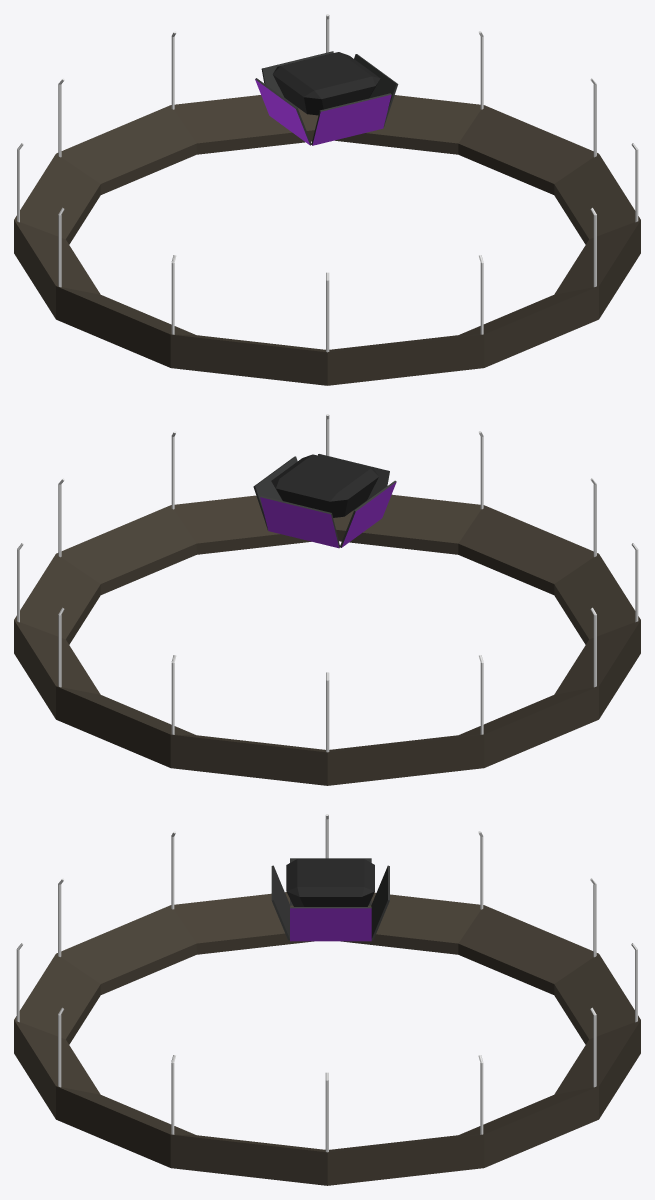
Rendered from arenaRing.glb.
3 renders of one model, top to bottom at view 1: azimuth 30°, elevation 25°; view 2: azimuth 150°, elevation 25°; view 3: azimuth 270°, elevation 25°, orthographic.
Visible parts, largest first — view 1: Cylinder.006, Cube.002, Cube, Cylinder.002, Cylinder.003, Cylinder.005, Cylinder.004, Cylinder.008; view 2: Cylinder.006, Cube.002, Cube, Cylinder.002, Cylinder.007, Cylinder.005, Cylinder.008, Cylinder.003; view 3: Cylinder.006, Cube.002, Cube, Cylinder.008, Cylinder.004, Cylinder.007, Cylinder.003, Cylinder.002.
Boxes of the visible parts, x1,y1,x2,y2 form: Cylinder.006: [14, 95, 640, 385]; Cube.002: [255, 51, 398, 145]; Cube: [272, 52, 380, 115]; Cylinder.002: [171, 31, 483, 334]; Cylinder.003: [171, 31, 483, 334]; Cylinder.005: [58, 78, 596, 287]; Cylinder.004: [58, 78, 596, 287]; Cylinder.008: [17, 143, 638, 222]; Cylinder.006: [14, 494, 640, 785]; Cube.002: [253, 454, 396, 548]; Cube: [271, 454, 378, 517]; Cylinder.002: [171, 431, 483, 734]; Cylinder.007: [58, 478, 596, 687]; Cylinder.005: [58, 478, 596, 687]; Cylinder.008: [171, 431, 483, 734]; Cylinder.003: [17, 543, 638, 622]; Cylinder.006: [14, 892, 640, 1185]; Cube.002: [271, 858, 389, 941]; Cube: [286, 859, 374, 906]; Cylinder.008: [171, 831, 483, 1134]; Cylinder.004: [58, 878, 596, 1087]; Cylinder.007: [58, 878, 596, 1087]; Cylinder.003: [171, 831, 483, 1134]; Cylinder.002: [16, 943, 637, 1022].
Size of the model in its own units: 3.13 by 0.994 by 3.13.
